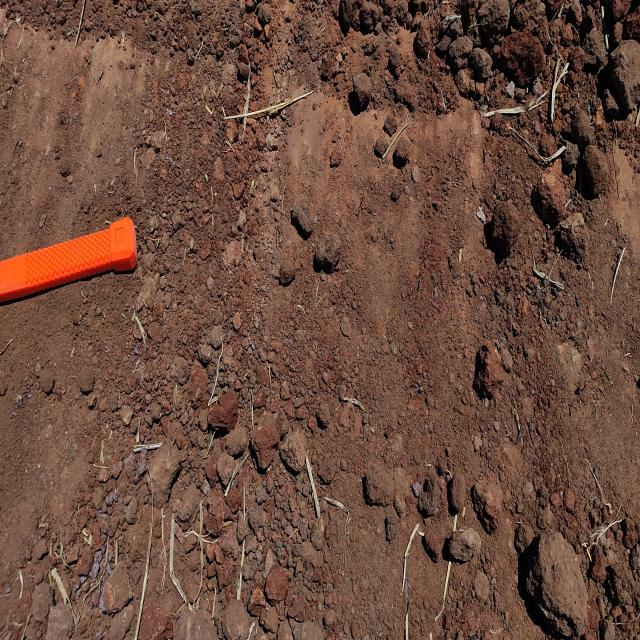Orange_hammer: (0, 214, 138, 304)
rock: (516, 525, 592, 640), (498, 21, 545, 92), (608, 35, 640, 119), (471, 340, 508, 404), (488, 192, 521, 262), (246, 413, 283, 473), (207, 379, 239, 445), (261, 562, 292, 612), (187, 354, 209, 411)
